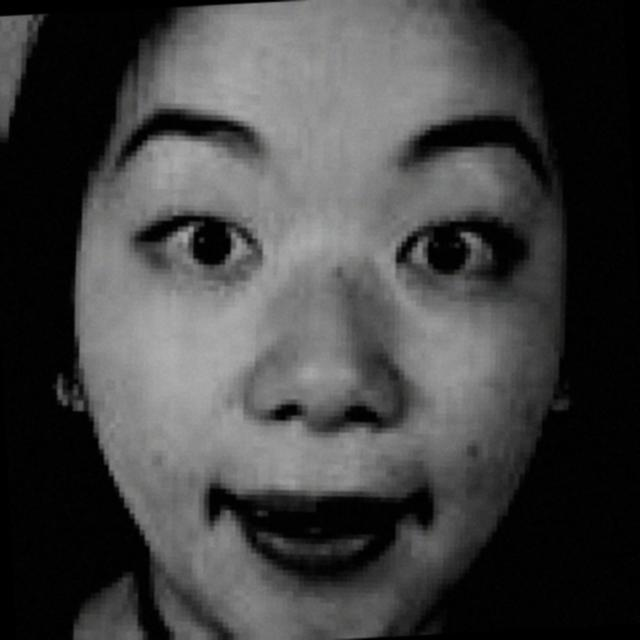surprise: (70, 7, 572, 640)
